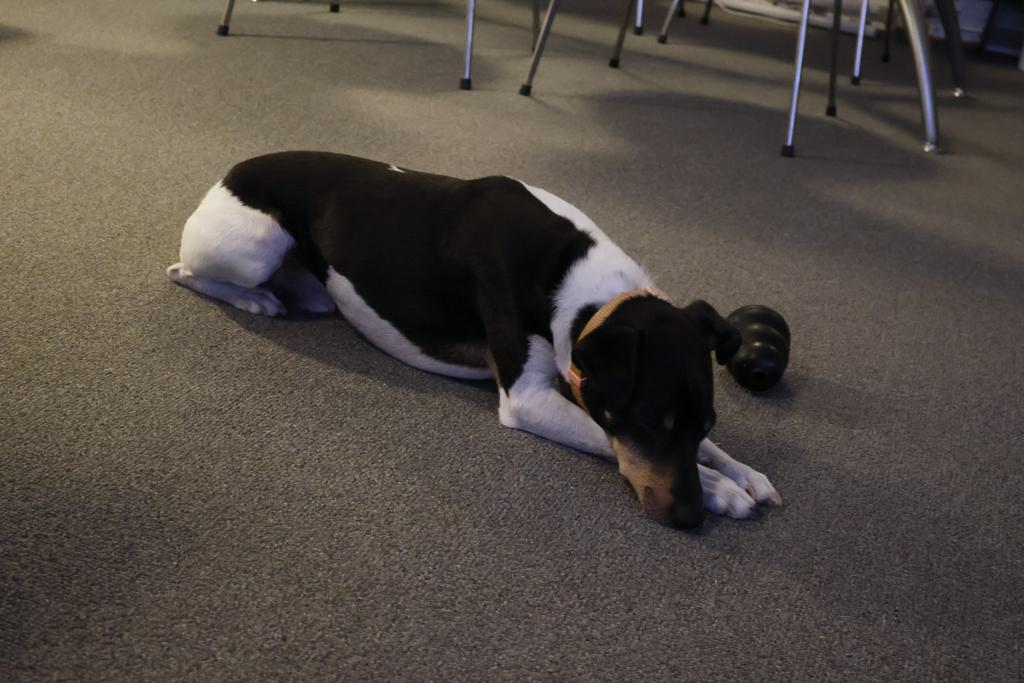Dog: (155, 130, 820, 550)
